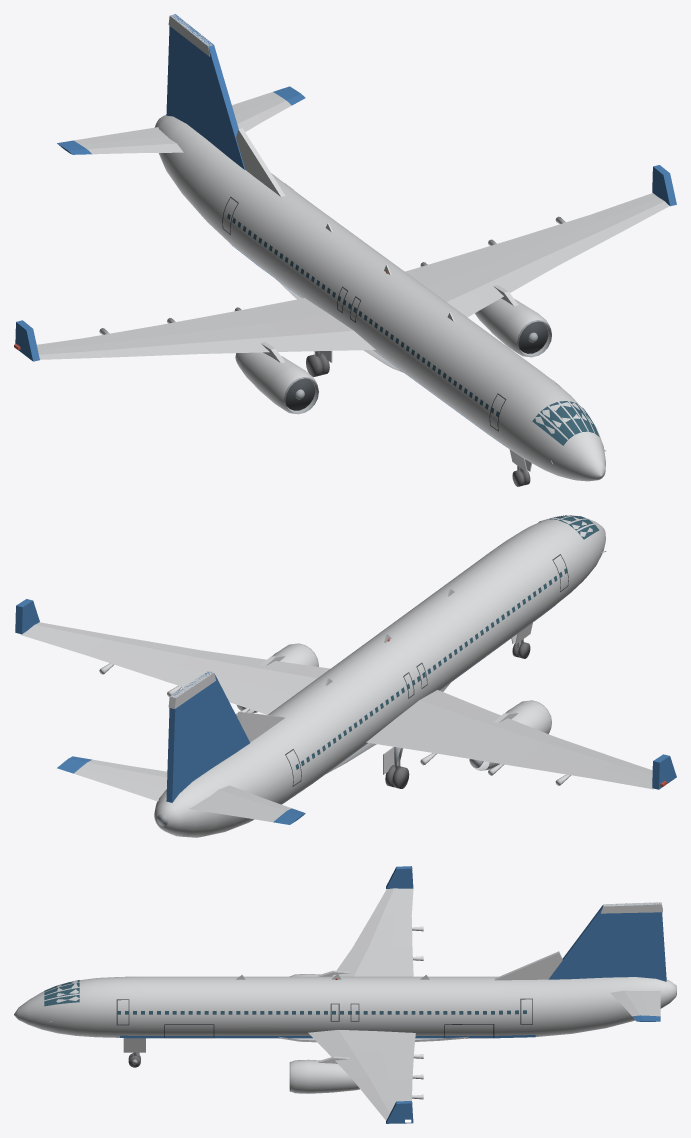
The model's file is airliner.glb.
The picture shows the model from 3 angles, top to bottom: view 1: azimuth 30°, elevation 25°; view 2: azimuth 150°, elevation 25°; view 3: azimuth 270°, elevation 25°; orthographic projection. The views are drawn at different scales.
Visible parts, largest first — view 1: Merged_CityWhitePaint, Merged_CityAccentBlue, Merged_WindowGlassDark, Merged_WindowFrame, Merged_PropsMetal, Merged_RoofDark; view 2: Merged_CityWhitePaint, Merged_CityAccentBlue, Merged_WindowGlassDark, Merged_RoofDark, Merged_PropsMetal; view 3: Merged_CityWhitePaint, Merged_CityAccentBlue, Merged_WindowGlassDark, Merged_WindowFrame.
Boxes of the visible parts, x1=… form: Merged_CityWhitePaint: x1=37, y1=14, x2=669, y2=481; Merged_CityAccentBlue: x1=15, y1=14, x2=676, y2=445; Merged_WindowGlassDark: x1=227, y1=213, x2=599, y2=445; Merged_WindowFrame: x1=222, y1=183, x2=559, y2=431; Merged_PropsMetal: x1=284, y1=320, x2=605, y2=473; Merged_RoofDark: x1=306, y1=353, x2=530, y2=486; Merged_CityWhitePaint: x1=20, y1=515, x2=654, y2=837; Merged_CityAccentBlue: x1=15, y1=599, x2=676, y2=824; Merged_WindowGlassDark: x1=295, y1=515, x2=599, y2=769; Merged_RoofDark: x1=385, y1=642, x2=530, y2=788; Merged_PropsMetal: x1=157, y1=551, x2=606, y2=826; Merged_CityWhitePaint: x1=14, y1=888, x2=676, y2=1121; Merged_CityAccentBlue: x1=120, y1=866, x2=666, y2=1123; Merged_WindowGlassDark: x1=44, y1=980, x2=526, y2=1014; Merged_WindowFrame: x1=116, y1=998, x2=532, y2=1038.
Bounding box in the file's own units: 38.41 × 12.16 × 45.
